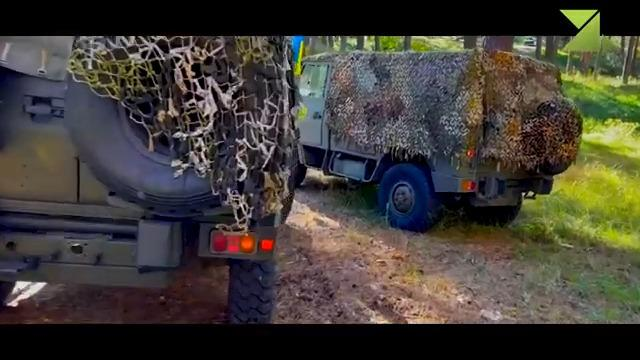MIL_HMMWV: (1, 35, 304, 327), (298, 51, 584, 235)
